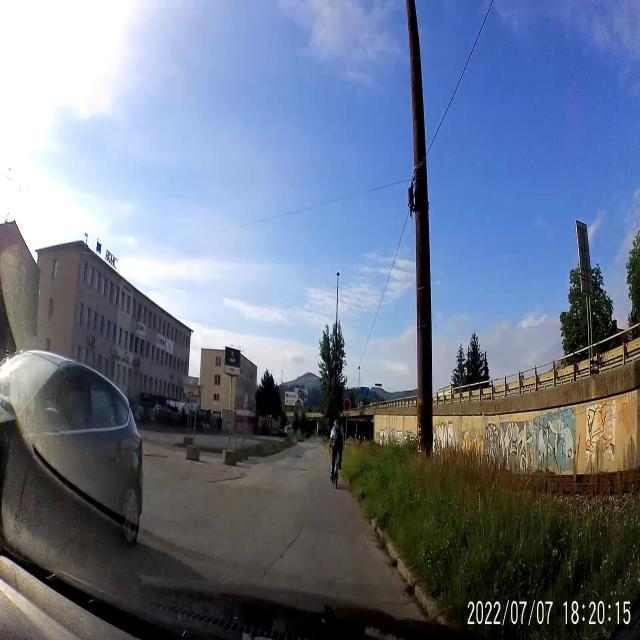Pothole: (292, 452, 307, 459)
